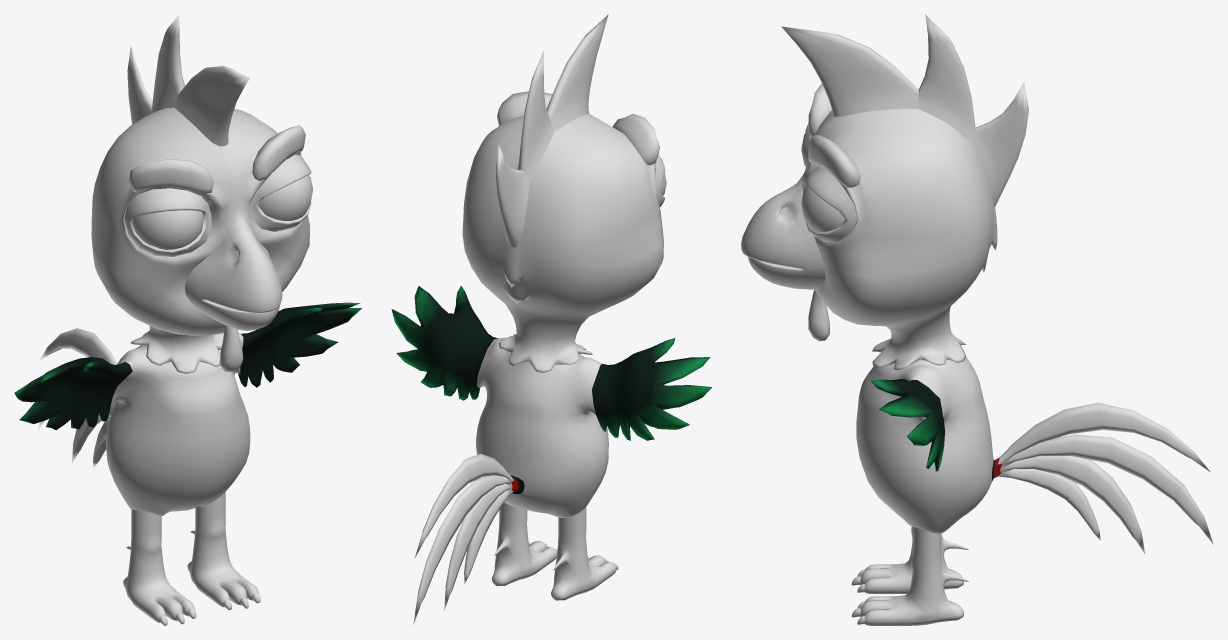
File: Rooster.glb
3 renders of one model, left to right at view 1: azimuth 30°, elevation 25°; view 2: azimuth 150°, elevation 25°; view 3: azimuth 270°, elevation 25°, orthographic. The views are drawn at different scales.
Visible parts, largest first — view 1: Rooster; view 2: Rooster; view 3: Rooster.
Boxes of the visible parts, x1,y1,x2,y2 form: Rooster: [14, 14, 361, 625]; Rooster: [391, 14, 711, 624]; Rooster: [741, 14, 1213, 625].
Bounding box in the file's own units: 1.57 × 2.49 × 1.81.
